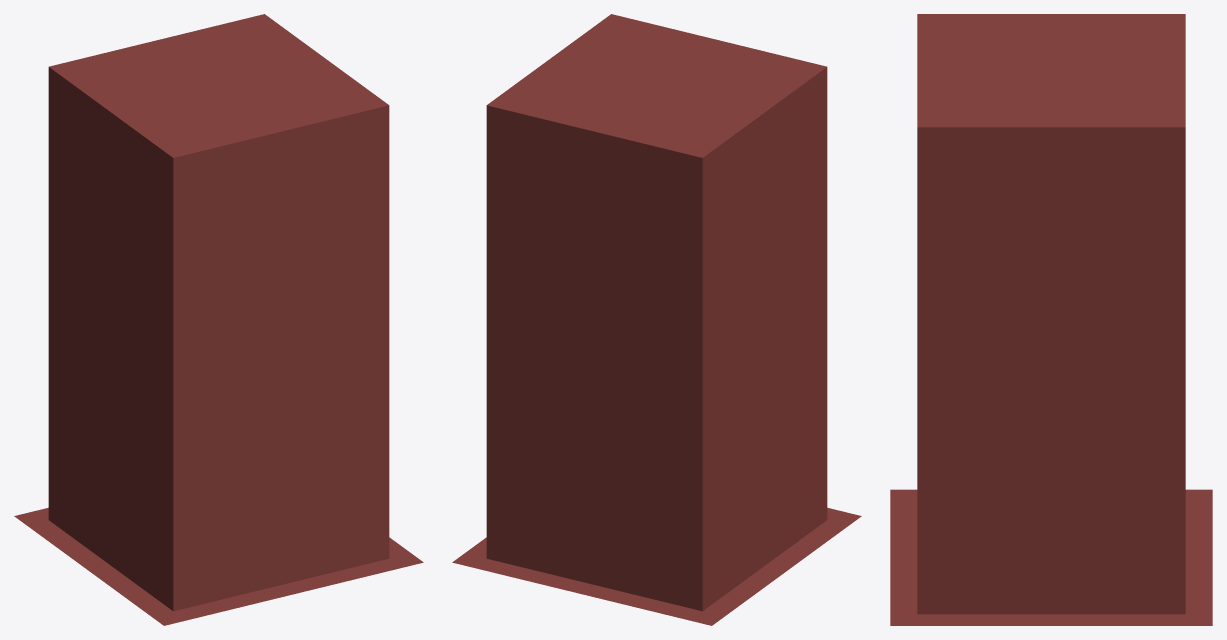
Rendered from 3x3 Office.fbx.
3 views of the same model, side by side, from view 1: azimuth 30°, elevation 25°; view 2: azimuth 150°, elevation 25°; view 3: azimuth 270°, elevation 25° (orthographic). The views are drawn at different scales.
Visible parts, largest first — view 1: 3x3 Office; view 2: 3x3 Office; view 3: 3x3 Office.
Boxes of the visible parts, x1=… form: 3x3 Office: x1=14, y1=14, x2=423, y2=625; 3x3 Office: x1=452, y1=14, x2=861, y2=625; 3x3 Office: x1=890, y1=14, x2=1212, y2=625.
Size of the model in its own units: 3 by 5 by 3.
